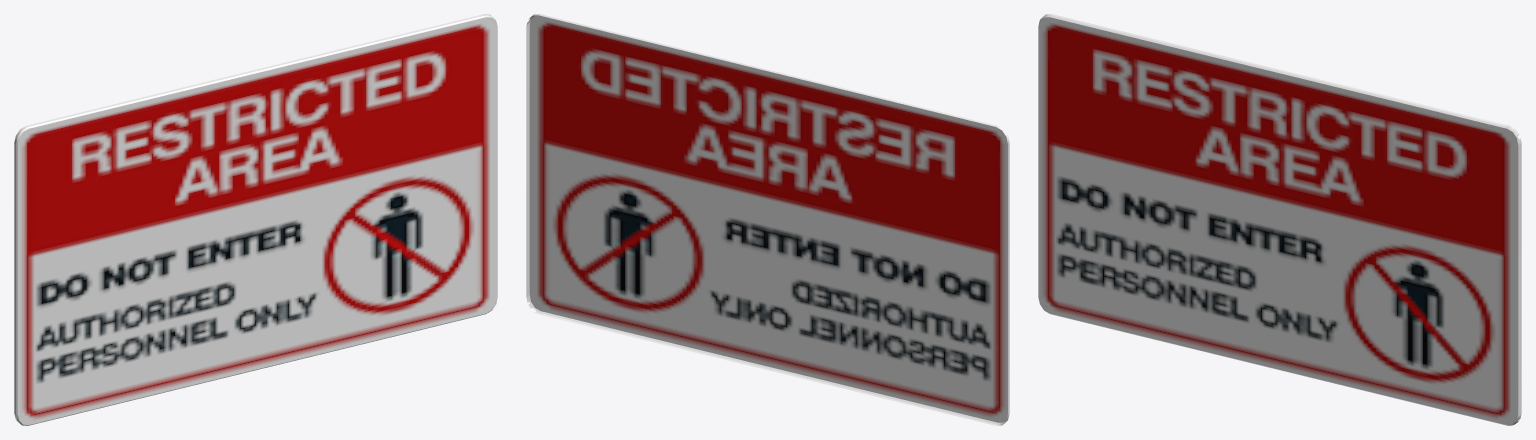
Rendered from Sign_2.fbx.
3 renders of one model, left to right at view 1: azimuth 30°, elevation 25°; view 2: azimuth 150°, elevation 25°; view 3: azimuth 330°, elevation 25°, orthographic.
Parts seen in each view (by area): view 1: Sign_2; view 2: Sign_2; view 3: Sign_2.
Part boxes in pixels (x1,y1,x2,y2): Sign_2: [14, 14, 497, 425]; Sign_2: [526, 14, 1009, 425]; Sign_2: [1038, 14, 1521, 425].
Size of the model in its own units: 1.09 by 0.6434 by 0.00952.
